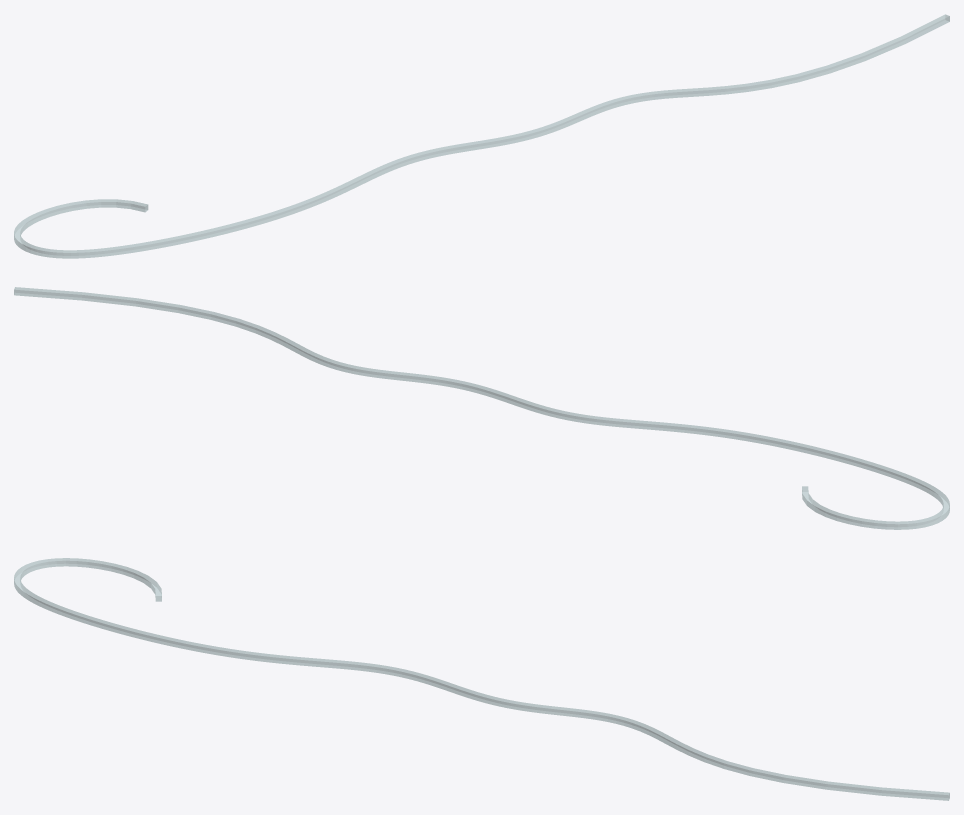
The model's file is threadline.fbx.
3 views of the same model, one above another, from view 1: azimuth 30°, elevation 25°; view 2: azimuth 150°, elevation 25°; view 3: azimuth 330°, elevation 25° (orthographic).
Parts seen in each view (by area): view 1: NurbsPath; view 2: NurbsPath; view 3: NurbsPath.
Boxes of the visible parts, bbox=[...] form: NurbsPath: bbox=[14, 14, 949, 258]; NurbsPath: bbox=[14, 287, 949, 529]; NurbsPath: bbox=[14, 558, 949, 800].
Bounding box in the file's own units: 147 × 0.8646 × 17.92.
